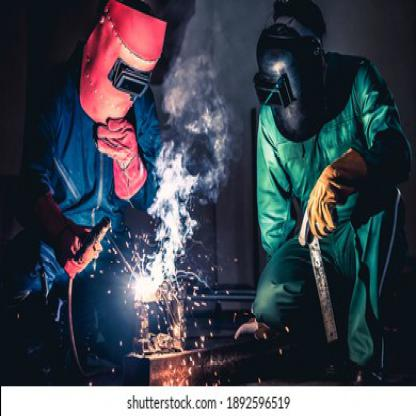with_gloves: (31, 190, 97, 279), (307, 147, 368, 241), (95, 114, 148, 202)
